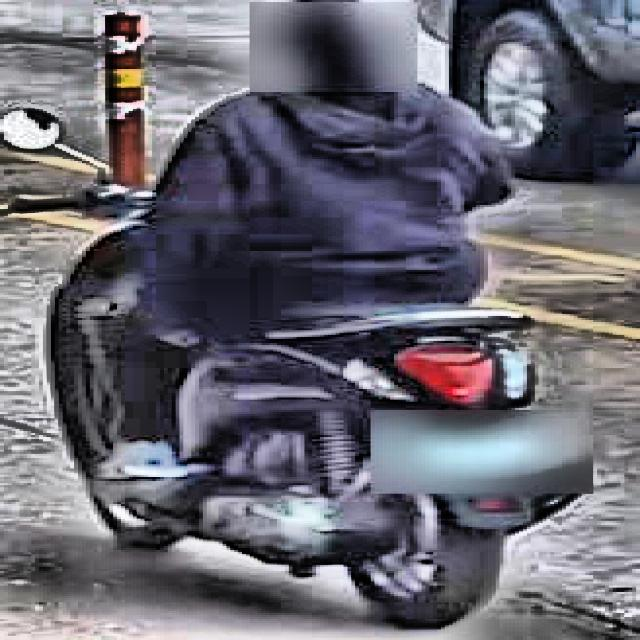motorcycle: (1, 107, 586, 635)
